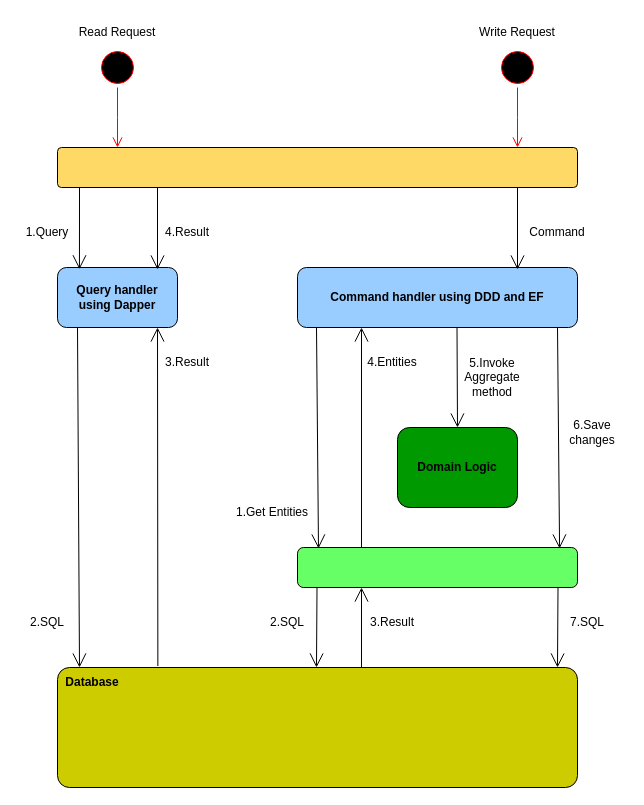
Some shapes in this 644 by 805 pixel diagram are drawn without their labels. Here are the shapes that lost their labels. From the top down, the centre of each, then its label:
(317,167): GUI
(437,567): Respositories
